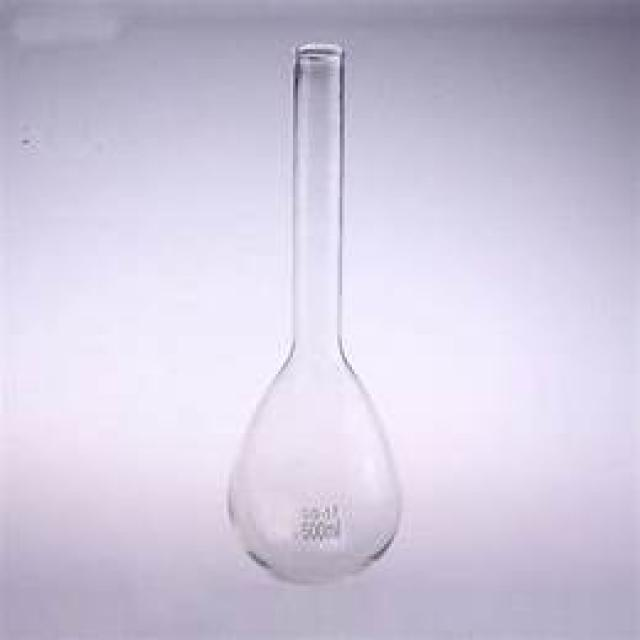Volumetric flask: (225, 31, 401, 578)
